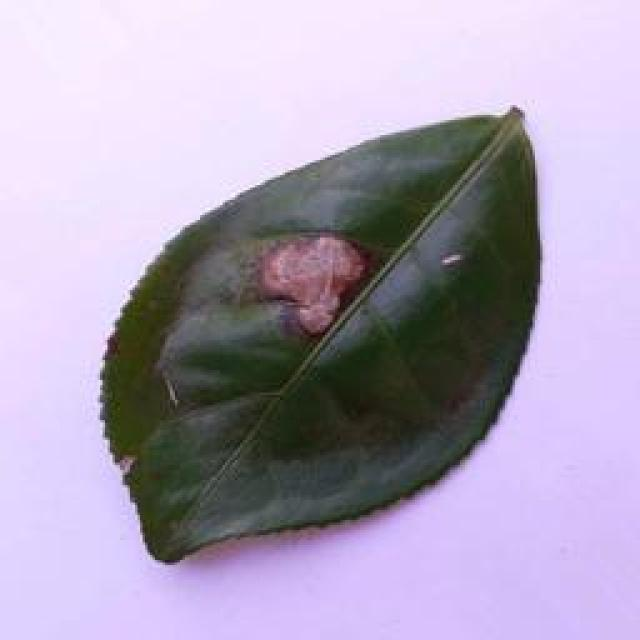Gray Blight: (95, 108, 550, 556)
